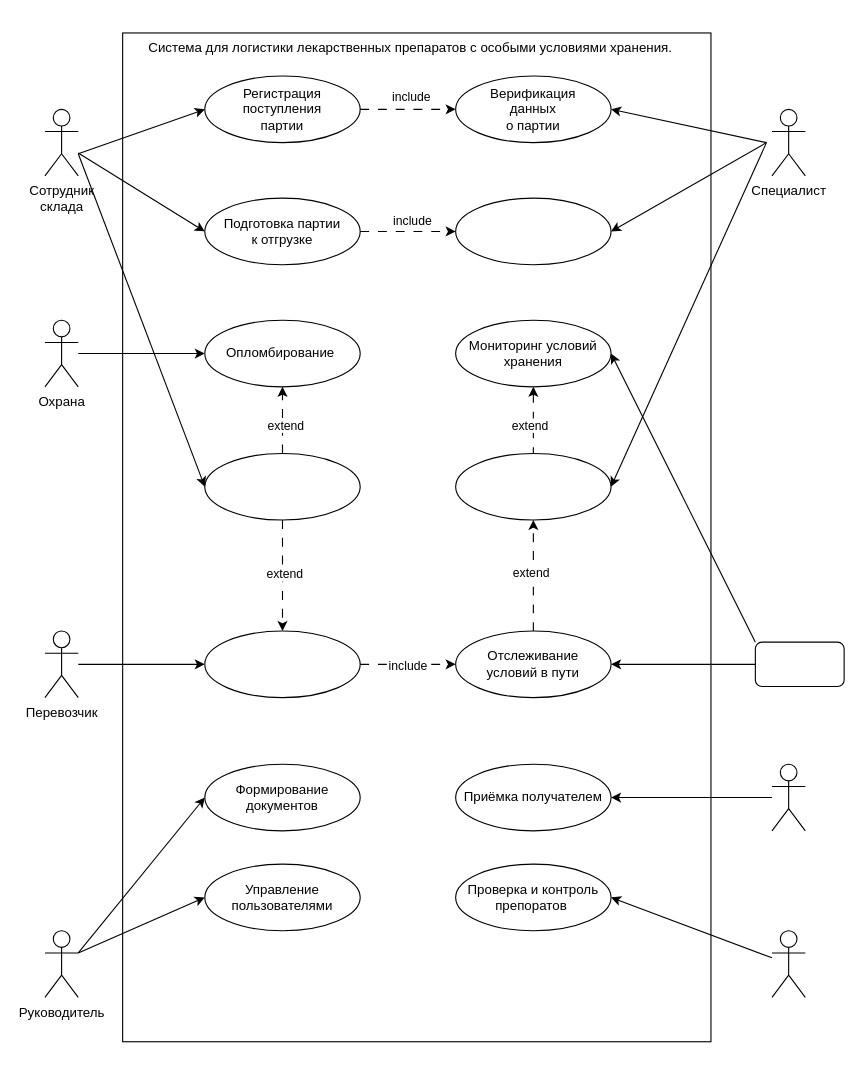
This 864x1071 diagram has some shape labels left out. Each missing label, with the box of its shape:
Гос. контролирующие органы: (771, 930, 805, 997)
Передача перевозчику: (204, 452, 360, 520)
Получатель: (771, 763, 805, 831)
Проверка условий упаковки: (455, 197, 611, 265)
Система мониторинга: (754, 641, 844, 687)
Транспортировка партии: (204, 630, 360, 698)
Уведомление о нарушении: (455, 452, 611, 520)
